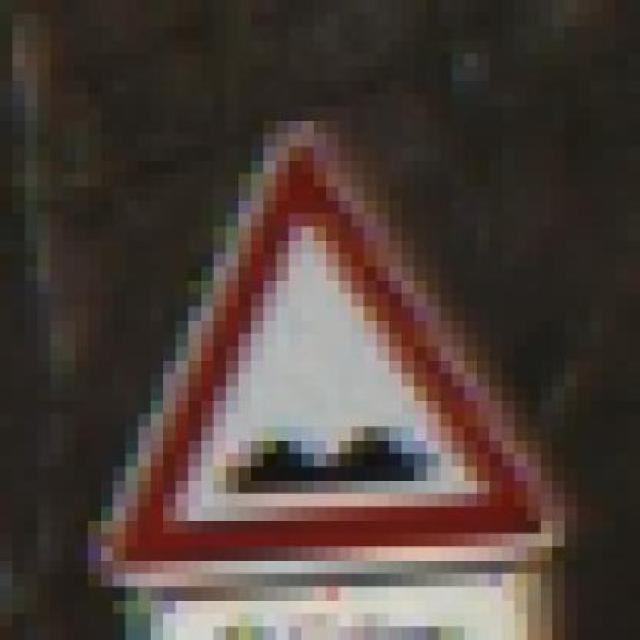Uneven Road: (62, 107, 578, 587)
